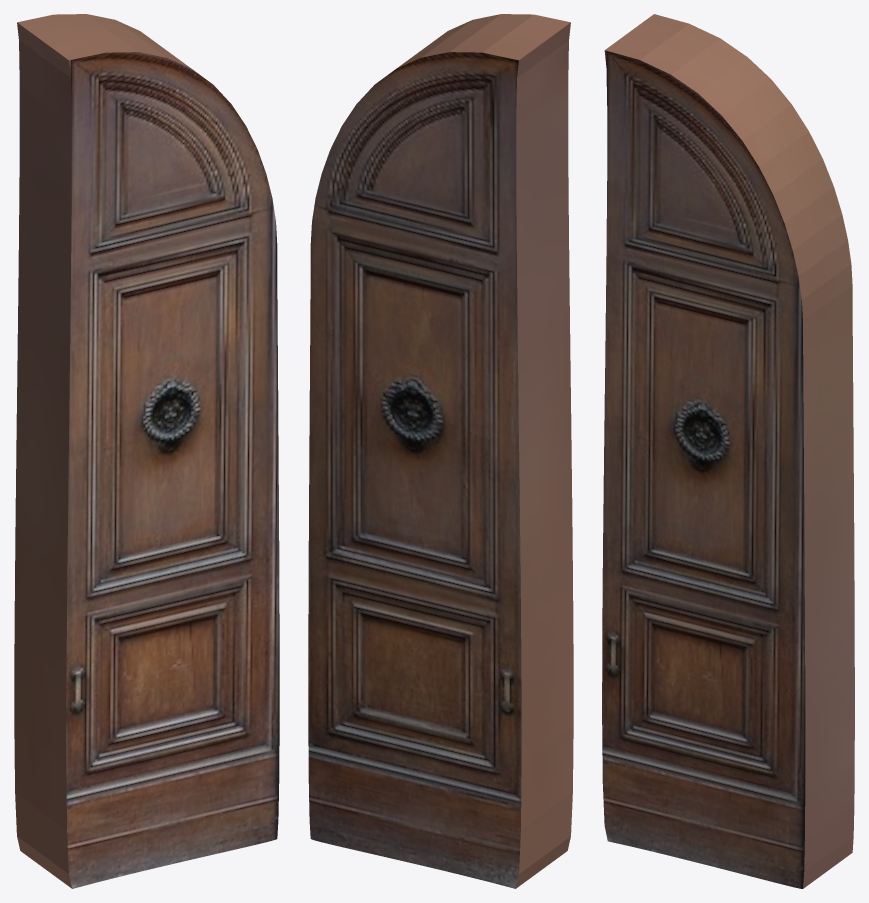
Rendered from ClosedLeftDoor.glb.
The picture shows the model from 3 angles, left to right: view 1: azimuth 30°, elevation 25°; view 2: azimuth 150°, elevation 25°; view 3: azimuth 330°, elevation 25°; orthographic projection. The views are drawn at different scales.
Visible parts, largest first — view 1: Left Door; view 2: Left Door; view 3: Left Door.
Boxes of the visible parts, x1,y1,x2,y2 form: Left Door: (14, 14, 279, 888); Left Door: (308, 14, 573, 888); Left Door: (602, 14, 854, 888).
Bounding box in the file's own units: 0.9521 × 3.54 × 0.402.
1 material, 1 textured.
